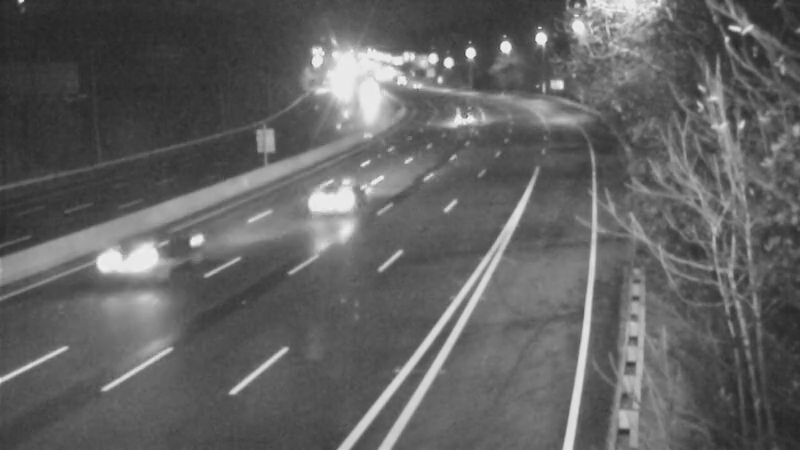vehicle: (299, 152, 379, 232), (90, 218, 170, 298), (391, 60, 441, 110), (442, 93, 492, 143)
